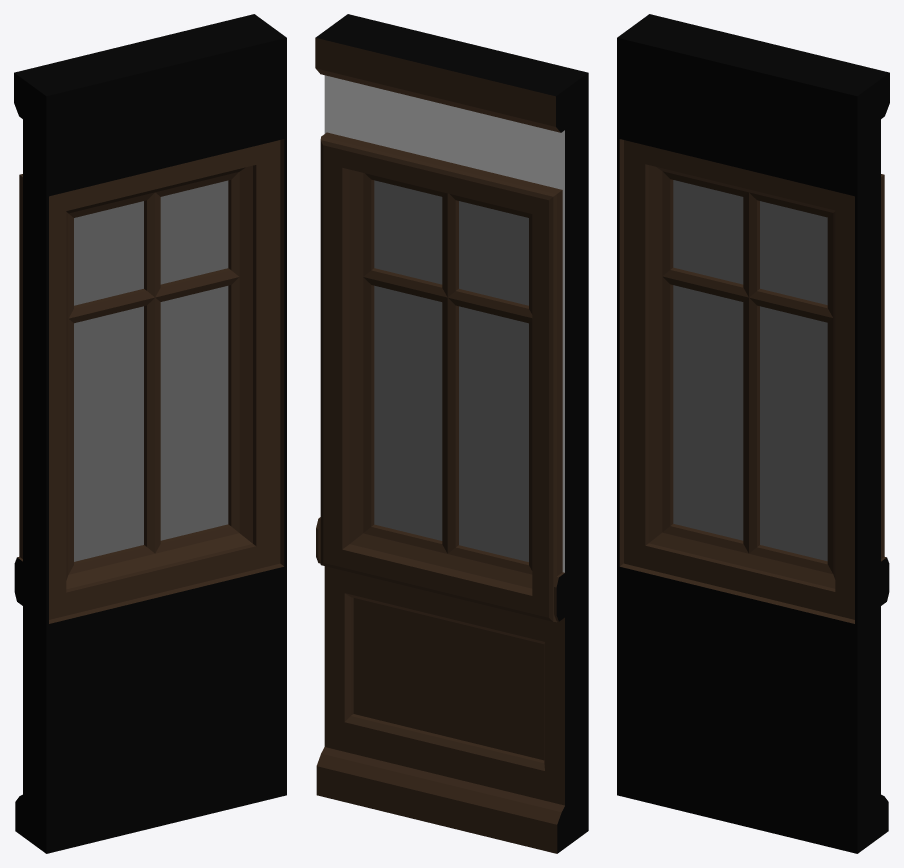
The model's file is Wall_Window_1_Half_V2.fbx.
3 views of the same model, side by side, from view 1: azimuth 30°, elevation 25°; view 2: azimuth 150°, elevation 25°; view 3: azimuth 330°, elevation 25° (orthographic).
Visible parts, largest first — view 1: Cube.182, Cube.183; view 2: Cube.182, Cube.183; view 3: Cube.182, Cube.183.
Boxes of the visible parts, box(x1,y1,x2,y2) form: Cube.182: box(14, 14, 286, 853); Cube.183: box(19, 140, 280, 619); Cube.182: box(315, 14, 588, 853); Cube.183: box(320, 132, 562, 622); Cube.182: box(617, 14, 889, 853); Cube.183: box(624, 140, 884, 619).
Bounding box in the file's own units: 0.2334 × 1 × 3.01.
